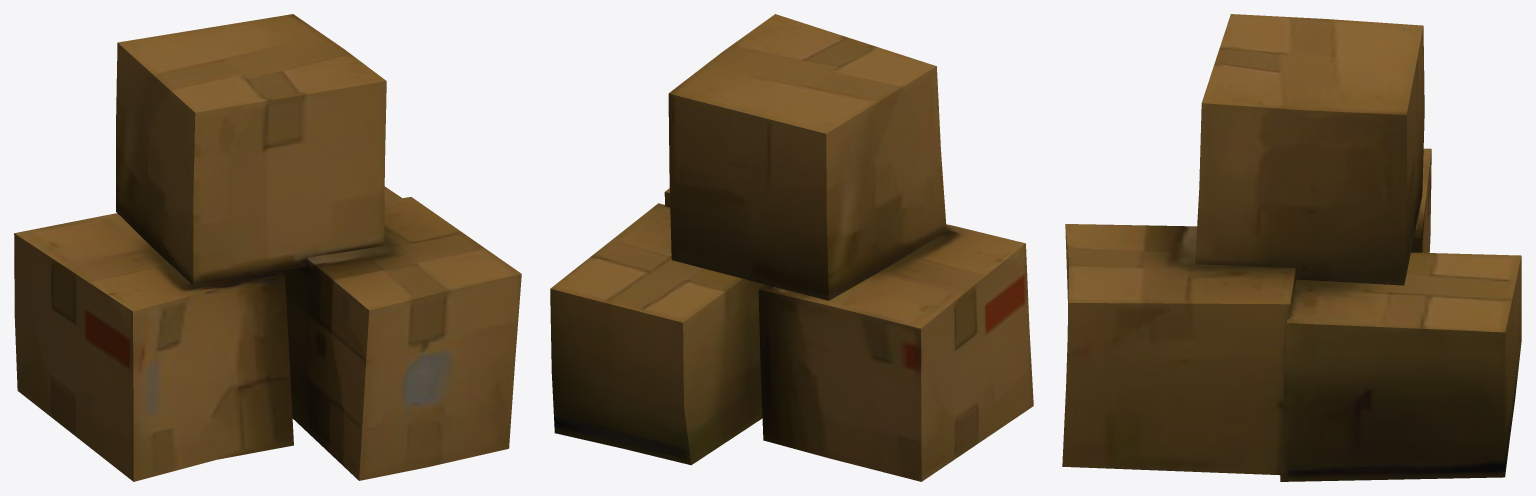
File: sewer_cardboard_crates.fbx
3 renders of one model, left to right at view 1: azimuth 30°, elevation 25°; view 2: azimuth 150°, elevation 25°; view 3: azimuth 270°, elevation 25°, orthographic. The views are drawn at different scales.
Parts seen in each view (by area): view 1: sewer_cardboard_crates; view 2: sewer_cardboard_crates; view 3: sewer_cardboard_crates.
Part boxes in pixels (box(x1,y1,x2,y2)): sewer_cardboard_crates: box(14, 14, 521, 481); sewer_cardboard_crates: box(550, 14, 1033, 481); sewer_cardboard_crates: box(1062, 14, 1521, 481).
Size of the model in its own units: 93.37 by 89.29 by 108.
